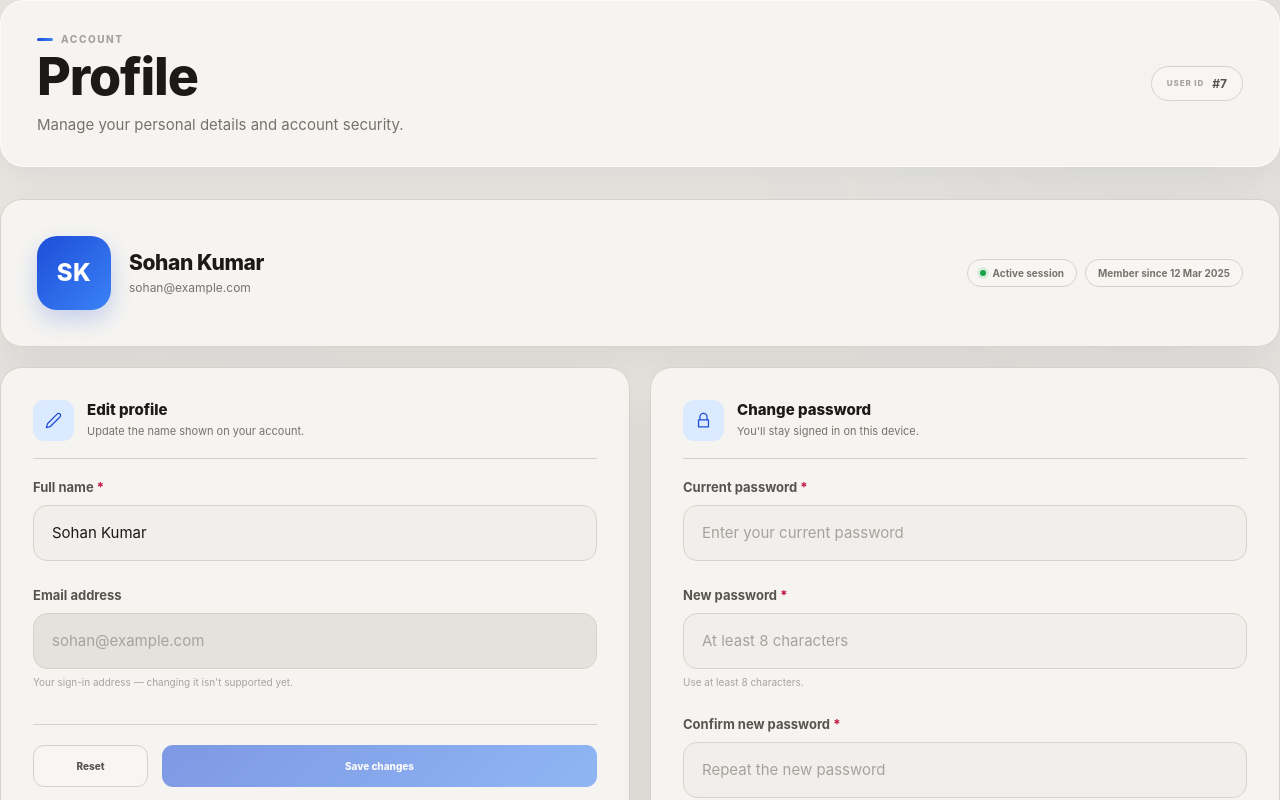
Scenario: Profile › saves an updated name to the API
Check: the button with class "save-button" is disabled, box [162,745,597,787]
Replace the text in the field labelled "Full name *" with "Sohan K" at (315, 533), box [33,505,597,561]
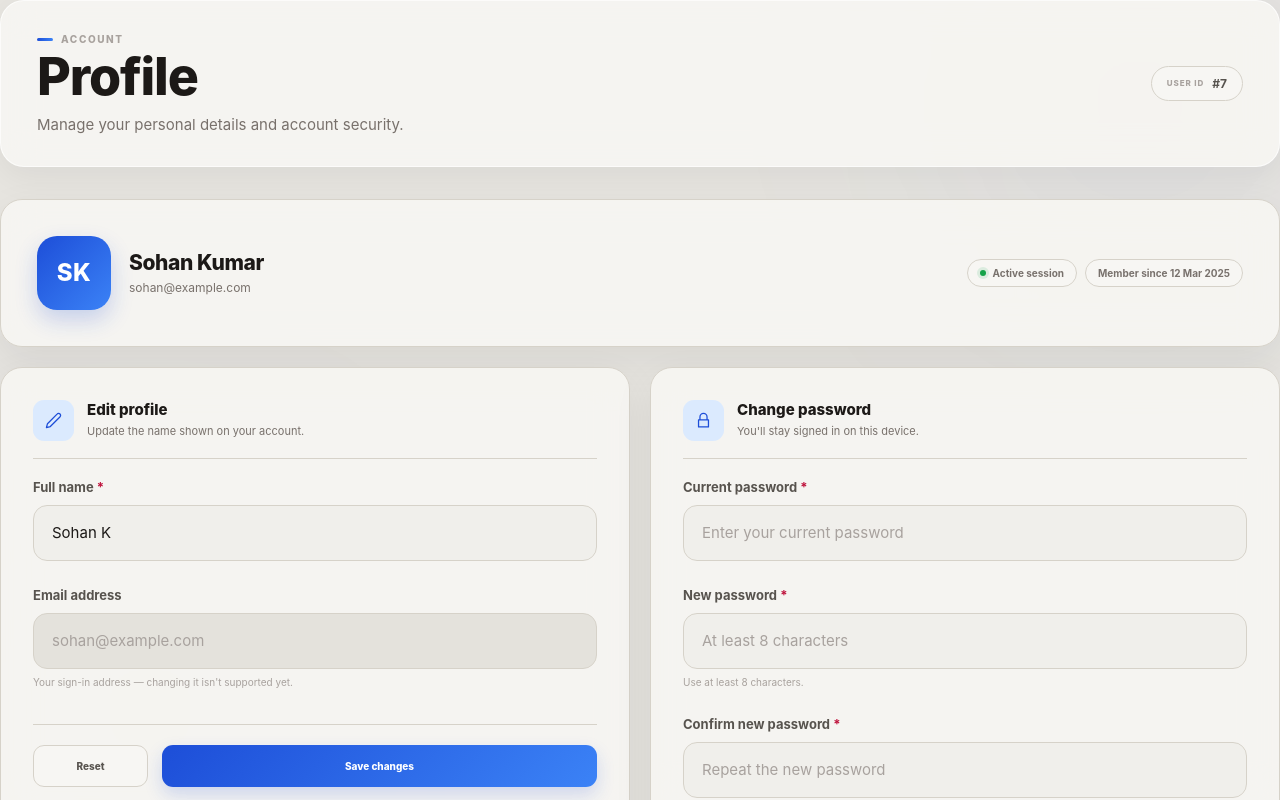
Check: the button with class "save-button" is enabled, box [162,745,597,787]
Submit the form that starts with "Full name", box [33,479,597,787]
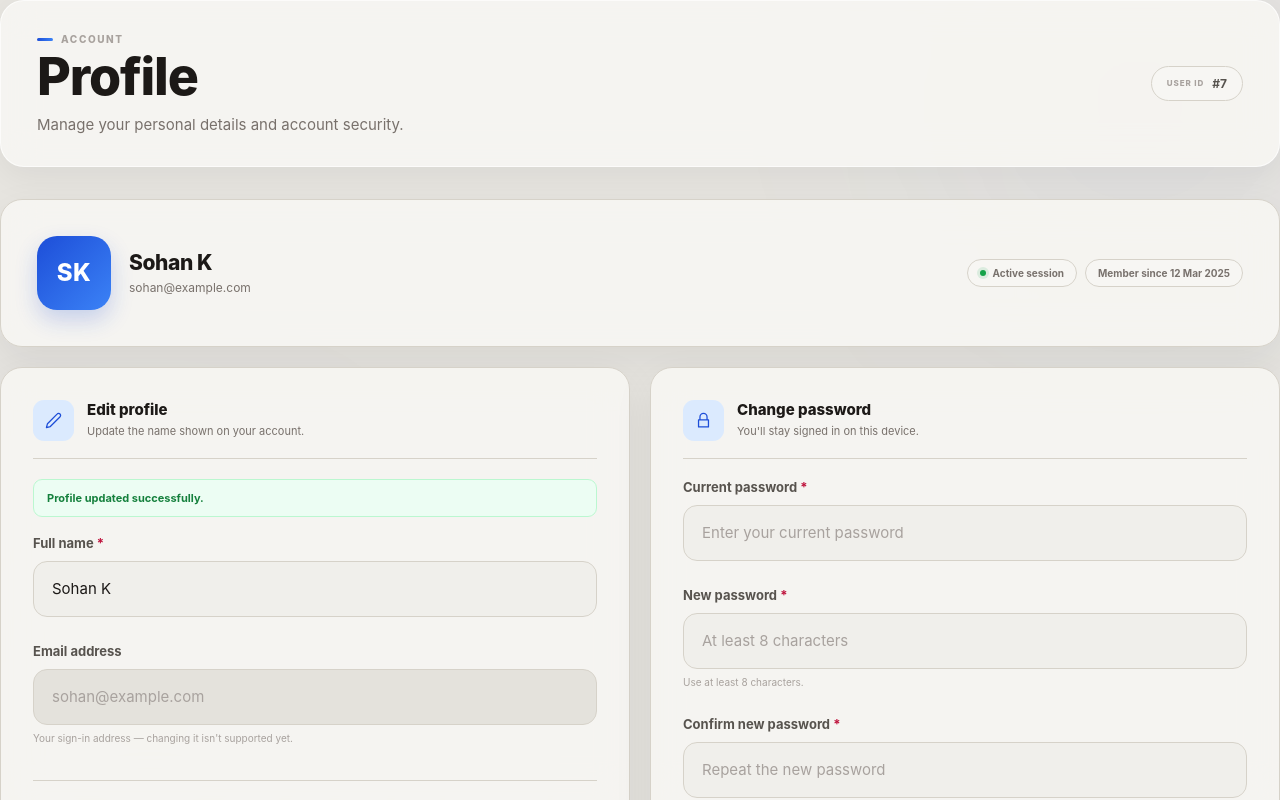
Check: the heading "Sohan K" is shown, box [129,250,212,275]
Check: the message "Profile updated successfully." is shown, box [33,479,597,517]
